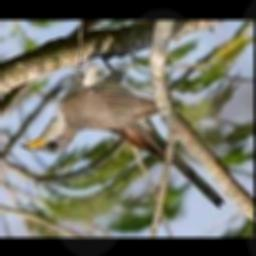Cuckoo: (19, 54, 223, 208)
